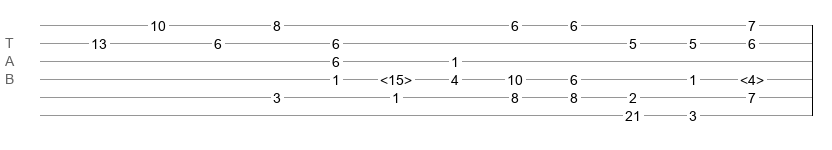1: (332, 72, 340, 82), (392, 90, 400, 100), (451, 54, 459, 64), (689, 72, 697, 82)
10: (150, 18, 166, 28), (507, 72, 523, 82)
13: (91, 36, 107, 46)
2: (629, 90, 637, 100)
21: (625, 108, 641, 118)
3: (273, 90, 281, 100), (689, 108, 697, 118)
4: (451, 72, 459, 82)
5: (629, 36, 637, 46), (689, 36, 697, 46)
6: (214, 36, 222, 46), (332, 54, 340, 64), (332, 36, 340, 46), (511, 18, 519, 28), (570, 72, 578, 82), (570, 18, 578, 28), (748, 36, 756, 46)
7: (748, 18, 756, 28), (748, 90, 756, 100)
8: (273, 18, 281, 28), (511, 90, 519, 100), (570, 90, 578, 100)
harmonic: (380, 72, 412, 82), (740, 72, 764, 82)
